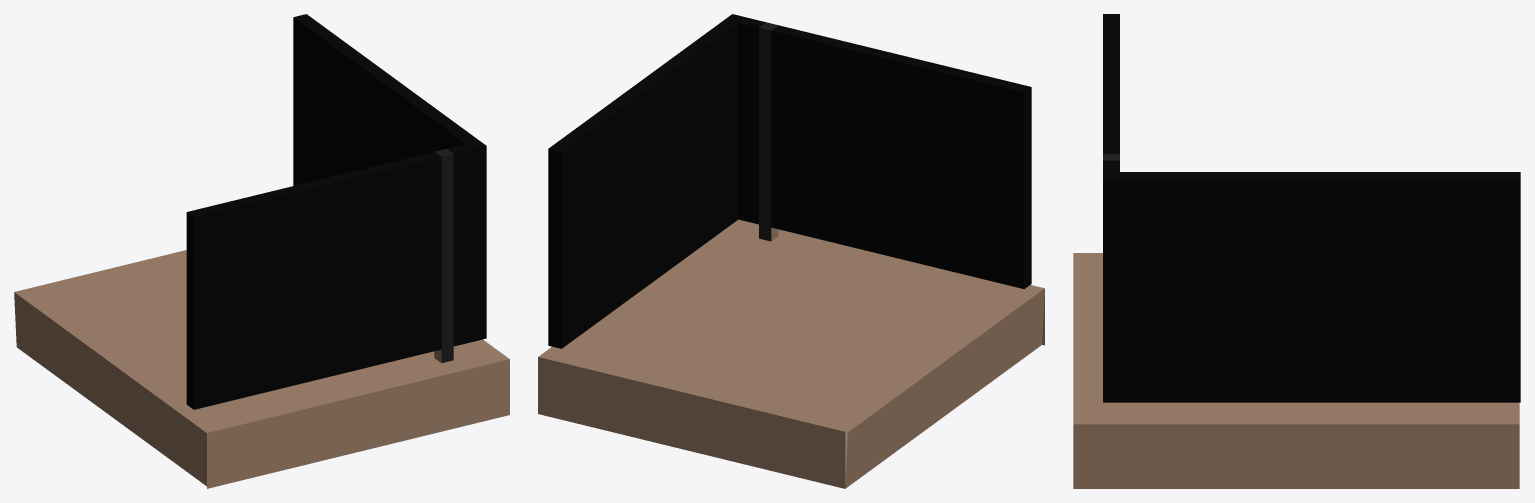
File: Modular_Balcony_Edge_R.FBX
3 views of the same model, side by side, from view 1: azimuth 30°, elevation 25°; view 2: azimuth 150°, elevation 25°; view 3: azimuth 270°, elevation 25° (orthographic). The views are drawn at different scales.
Visible parts, largest first — view 1: Modular_Balcony_Edge_R; view 2: Modular_Balcony_Edge_R; view 3: Modular_Balcony_Edge_R.
Boxes of the visible parts, left/top/right/bottom form: Modular_Balcony_Edge_R: left=14, top=14, right=509, bottom=488; Modular_Balcony_Edge_R: left=538, top=14, right=1044, bottom=488; Modular_Balcony_Edge_R: left=1073, top=14, right=1520, bottom=488.
Bounding box in the file's own units: 11.53 × 9.53 × 12.72.
